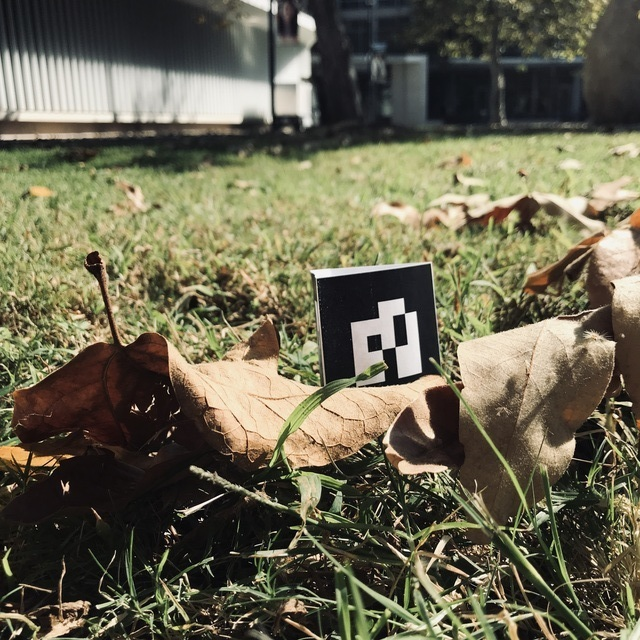ARTag: (309, 261, 444, 396)
